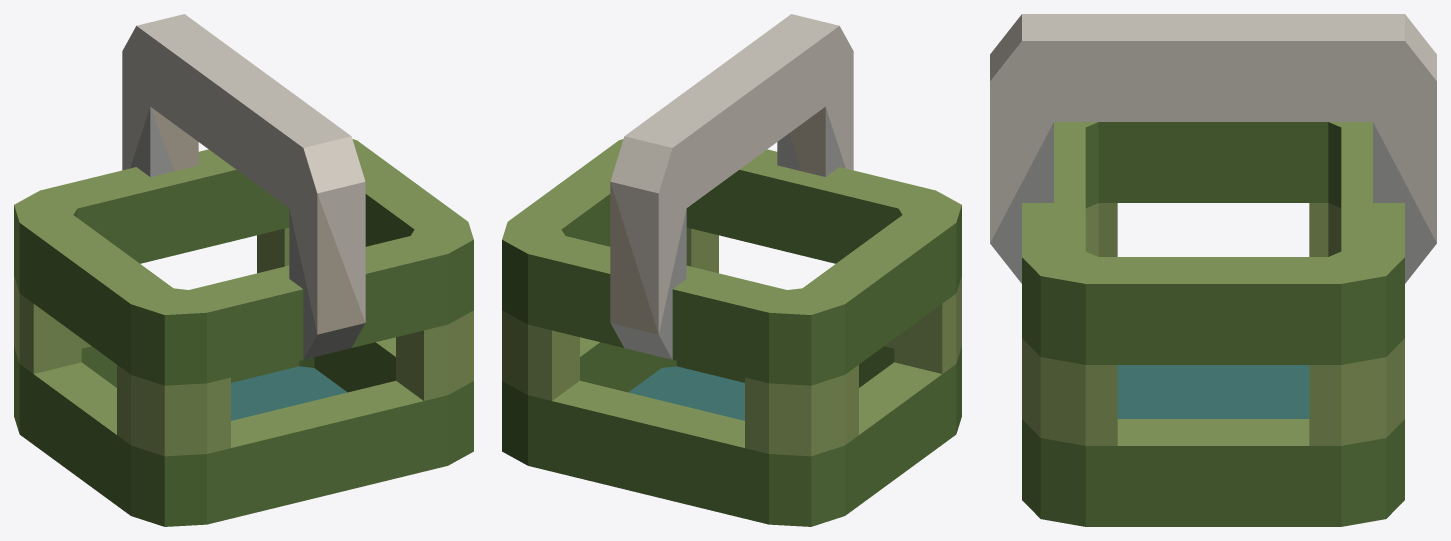
File: shopping-basket.glb
3 renders of one model, left to right at view 1: azimuth 30°, elevation 25°; view 2: azimuth 150°, elevation 25°; view 3: azimuth 270°, elevation 25°, orthographic. The views are drawn at different scales.
Size of the model in its own units: 1 by 1 by 1.
